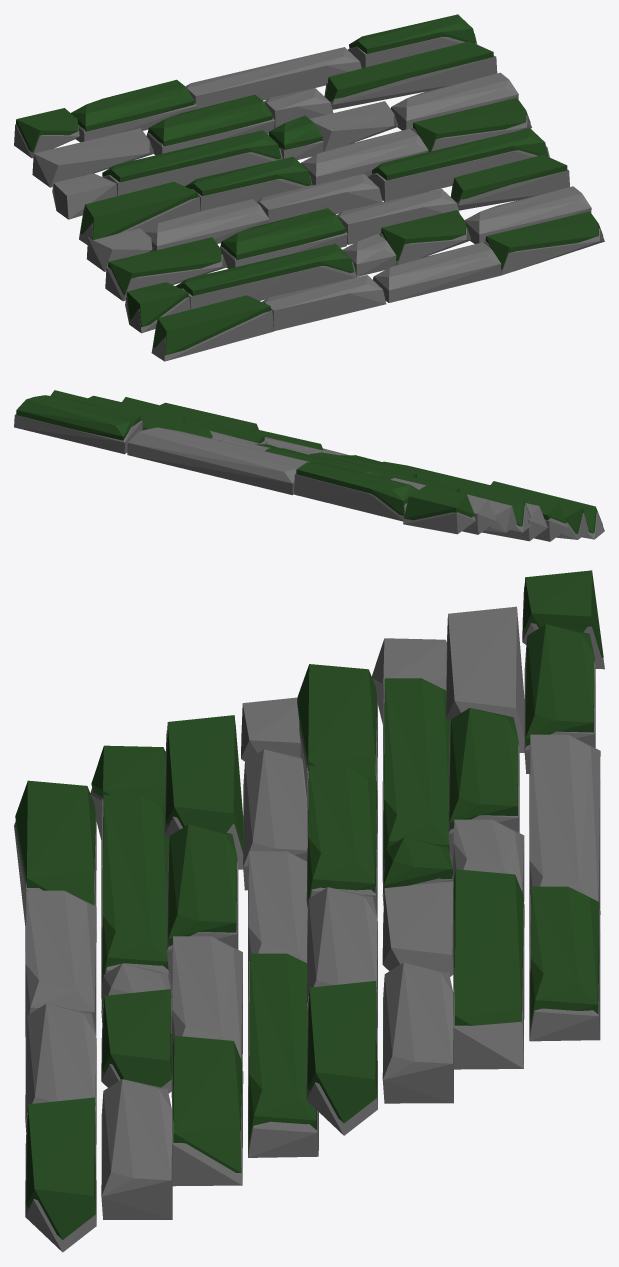
Rendered from SM_stairs_jungle_03.fbx.
The picture shows the model from 3 angles, top to bottom: view 1: azimuth 30°, elevation 25°; view 2: azimuth 150°, elevation 25°; view 3: azimuth 270°, elevation 25°; orthographic projection. The views are drawn at different scales.
Parts seen in each view (by area): view 1: Object063; view 2: Object063; view 3: Object063.
Part boxes in pixels (box(x1,y1,x2,y2)): Object063: box(14, 14, 604, 361); Object063: box(14, 390, 604, 541); Object063: box(14, 570, 604, 1252).
Size of the model in its own units: 200 by 55.75 by 116.
